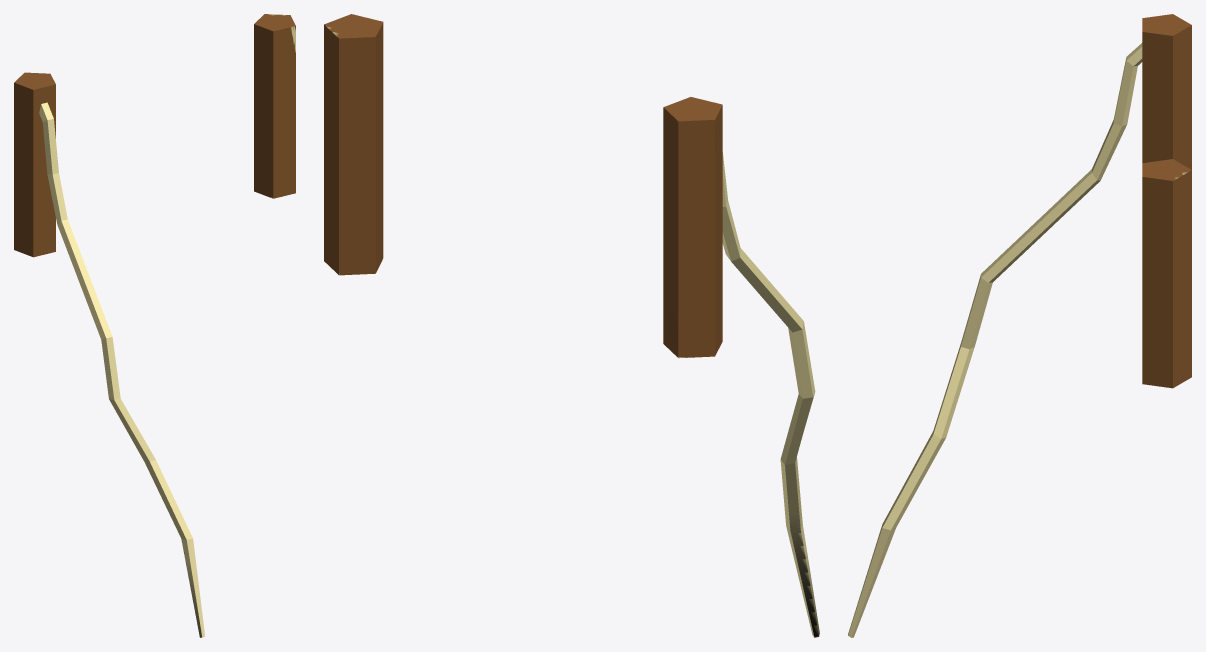
Rendered from Bridge2.fbx.
The picture shows the model from 3 angles, left to right: view 1: azimuth 30°, elevation 25°; view 2: azimuth 150°, elevation 25°; view 3: azimuth 270°, elevation 25°; orthographic projection. The views are drawn at different scales.
Parts seen in each view (by area): view 1: Cube; view 2: Cube; view 3: Cube.
Part boxes in pixels (x1,y1,x2,y2): Cube: (14, 14, 295, 637); Cube: (324, 14, 819, 637); Cube: (848, 14, 1191, 637).
Bounding box in the file's own units: 346 × 567 × 301.
Materials: 1 (1 with a texture image).
